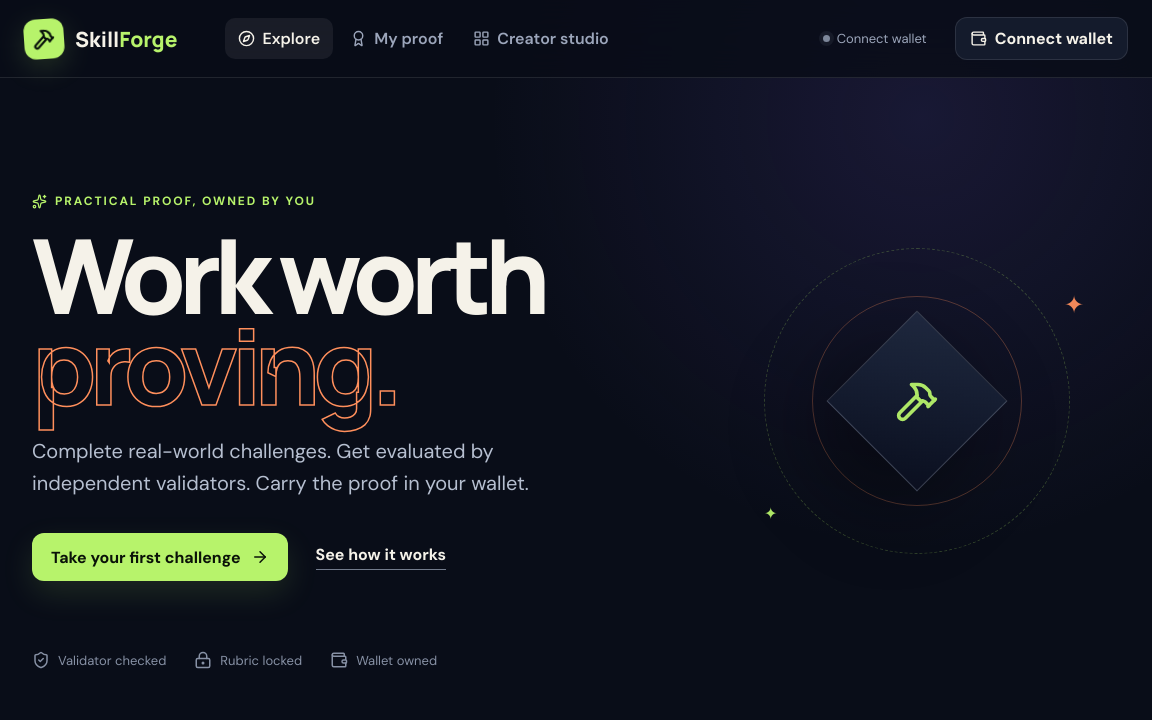
SkillForge shell › opens a challenge and displays the locked rubric
Click the button "Take your first challenge": (160, 558) [32,534,288,582]
(page scrolled)
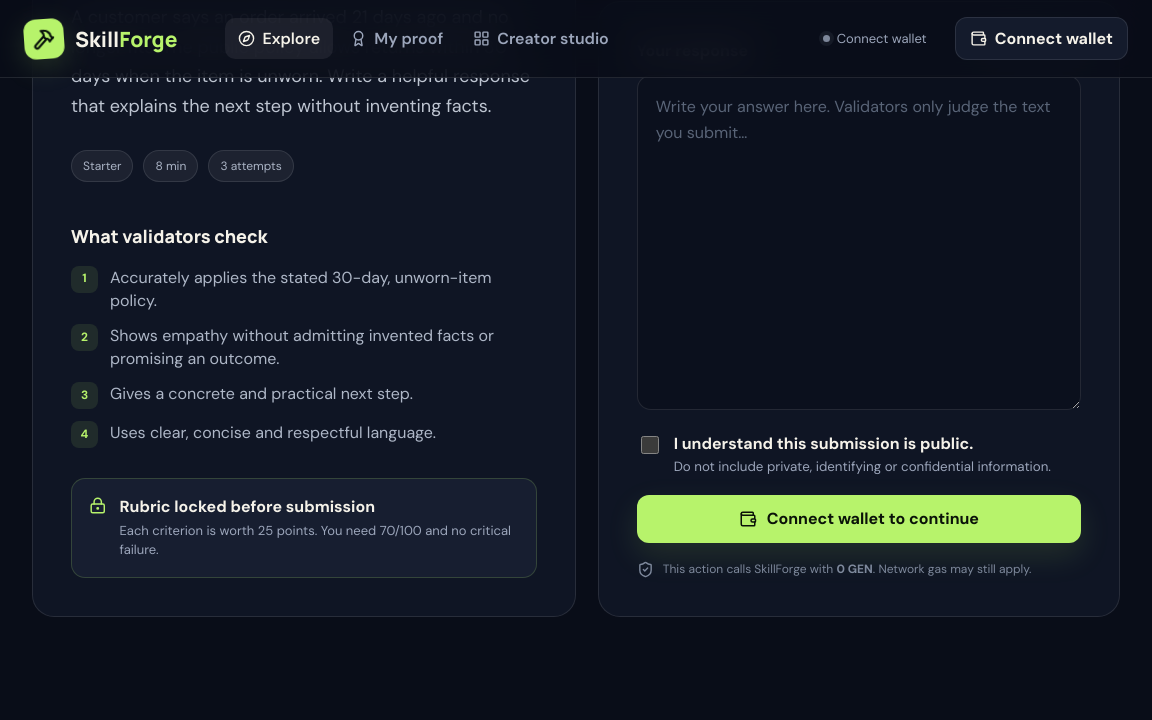
Check: the text "Rubric locked before submission" is shown, box [120,496,375,517]
Check: the text "0 GEN" is shown, box [836,561,873,577]
